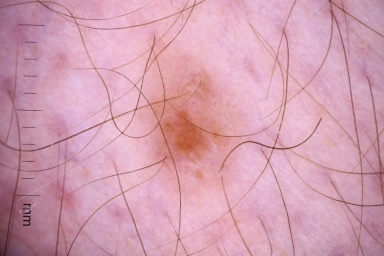melanoma: (168, 109, 210, 155)
